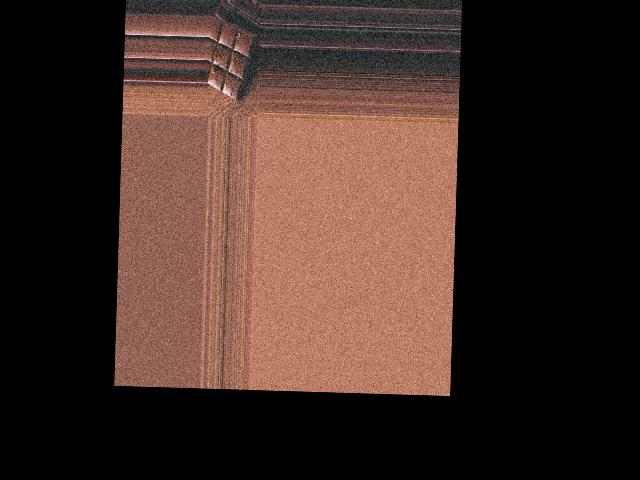chocolate: (207, 15, 257, 104)
